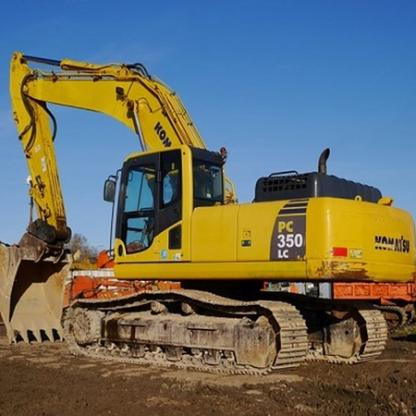excavator: (5, 36, 415, 385)
